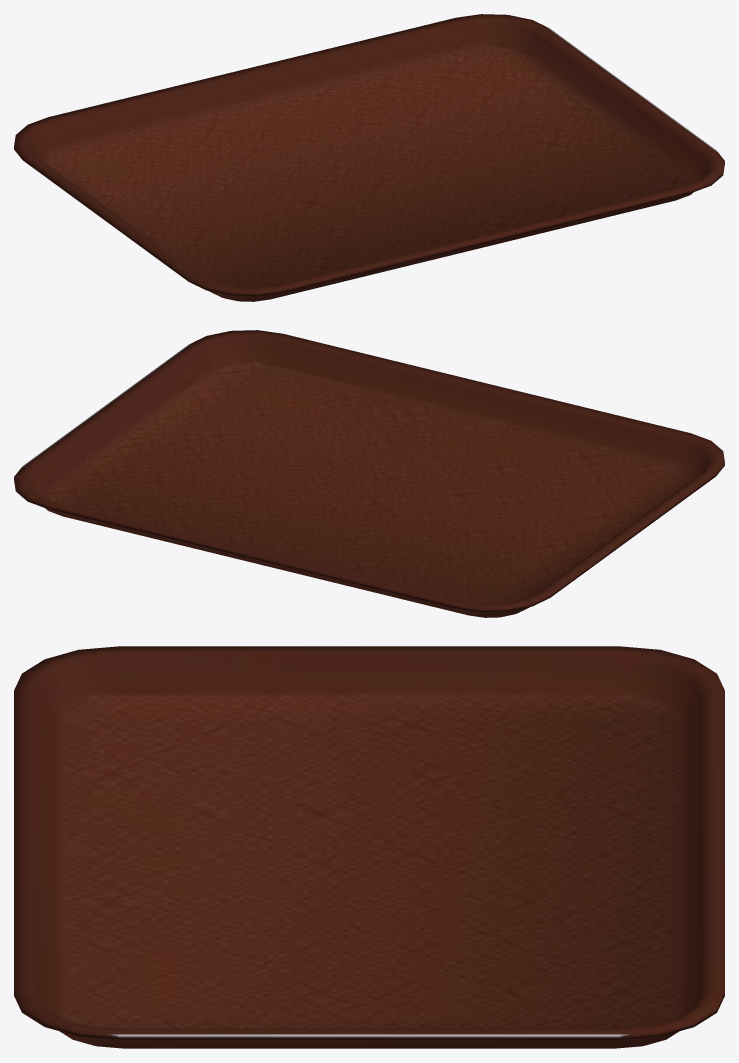
File: bw-tray.lod0.glb
The picture shows the model from 3 angles, top to bottom: view 1: azimuth 30°, elevation 25°; view 2: azimuth 150°, elevation 25°; view 3: azimuth 270°, elevation 25°; orthographic projection. The views are drawn at different scales.
Parts seen in each view (by area): view 1: Object_4; view 2: Object_4; view 3: Object_4.
Boxes of the visible parts, x1,y1,x2,y2 form: Object_4: (14, 14, 724, 301); Object_4: (14, 330, 724, 617); Object_4: (14, 646, 724, 1048).
Bounding box in the file's own units: 0.45 × 0.0179 × 0.3477.
1 material, 1 textured.
